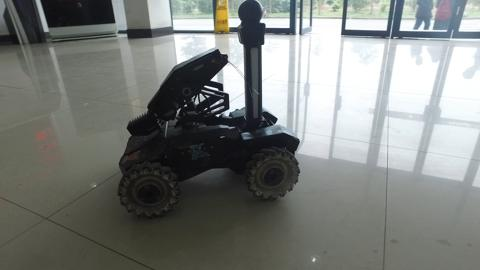chariot: (114, 1, 302, 218)
